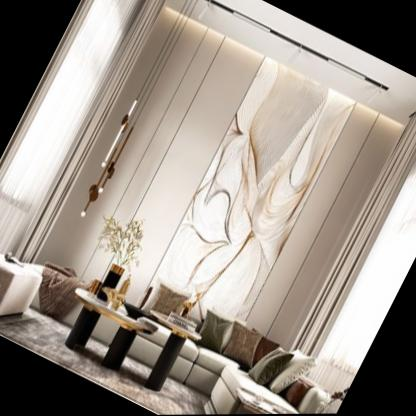Curtains: (290, 111, 416, 394)
Sofa: (98, 275, 352, 415)
Wall Panel: (36, 4, 404, 380)
